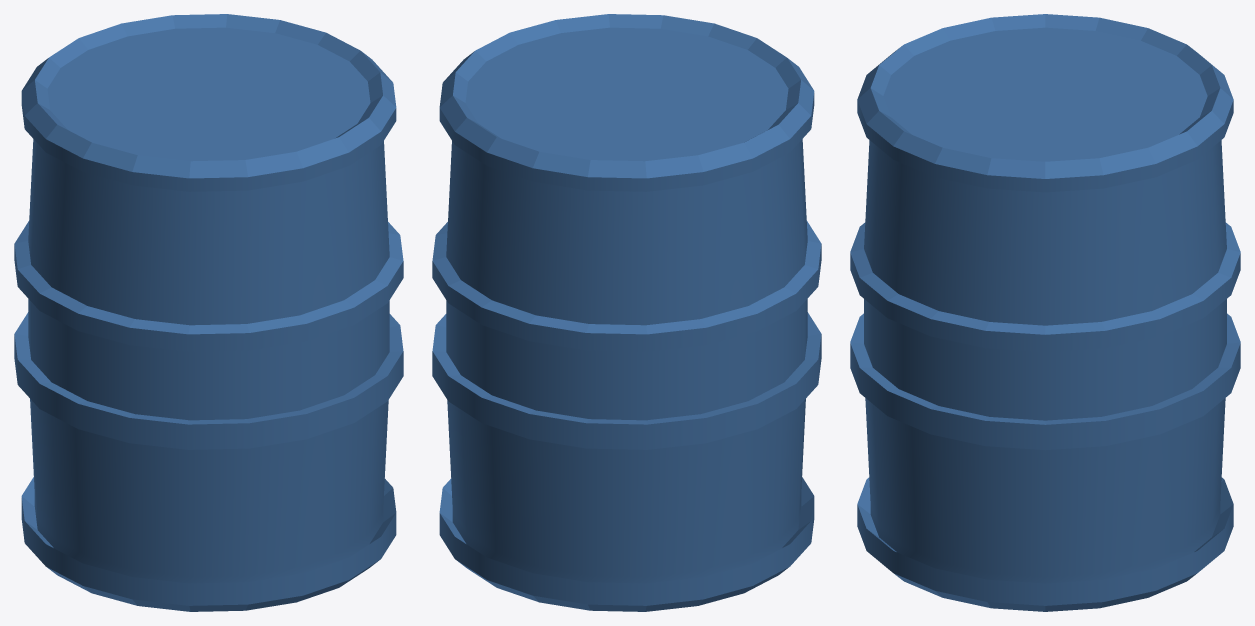
File: barrel.fbx
3 views of the same model, side by side, from view 1: azimuth 30°, elevation 25°; view 2: azimuth 150°, elevation 25°; view 3: azimuth 270°, elevation 25° (orthographic).
Visible parts, largest first — view 1: pCylinder1; view 2: pCylinder1; view 3: pCylinder1.
Part boxes in pixels (x1,y1,x2,y2): pCylinder1: (14,14,403,611); pCylinder1: (432,14,821,611); pCylinder1: (850,14,1240,611).
Bounding box in the file's own units: 8.85 × 11.25 × 8.85.
